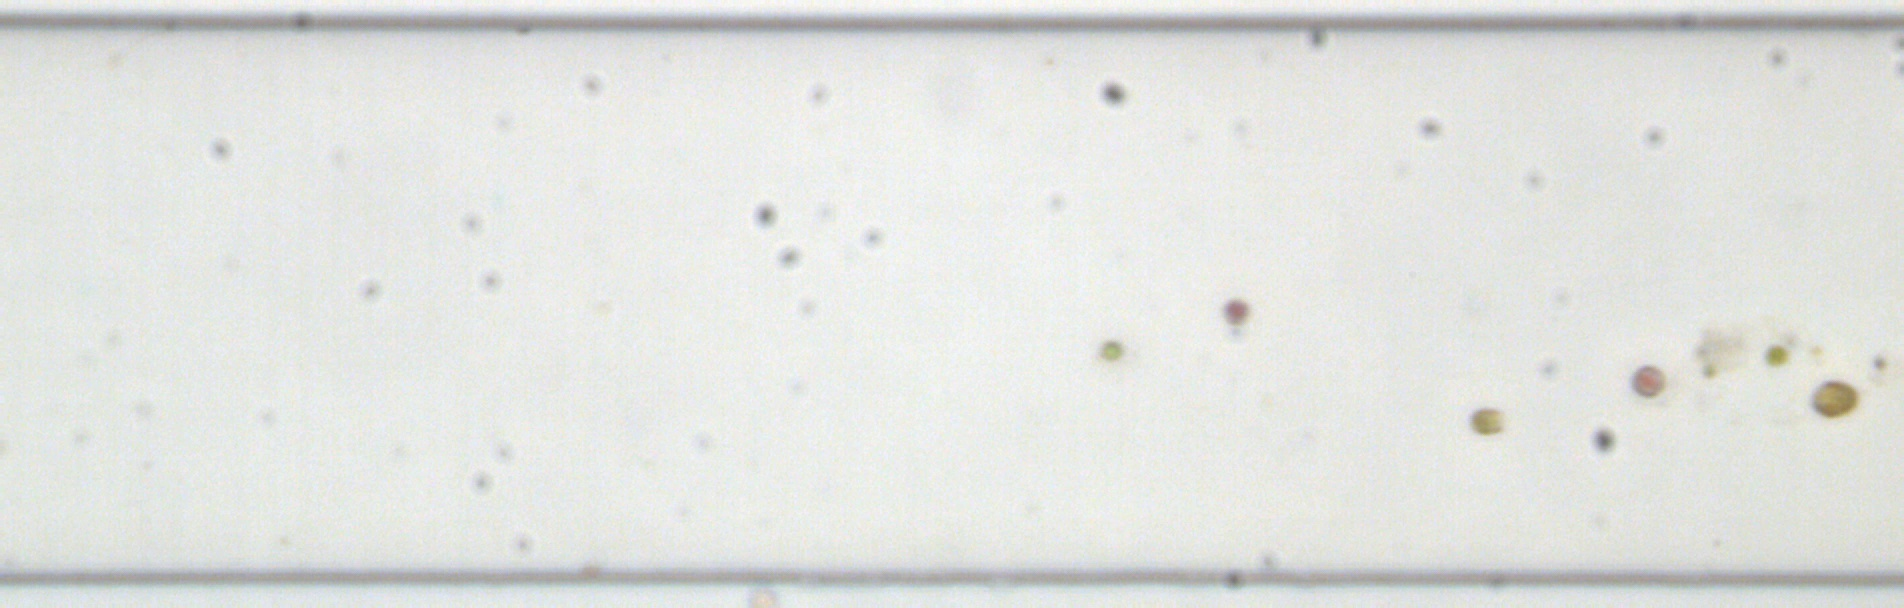Chlorella: (1764, 341, 1787, 366), (1099, 339, 1122, 360), (1700, 362, 1715, 377)
Dunaliella salina: (1467, 404, 1507, 437)
Effrenium: (1807, 377, 1859, 420)
Porphyridium: (1628, 360, 1668, 402)
